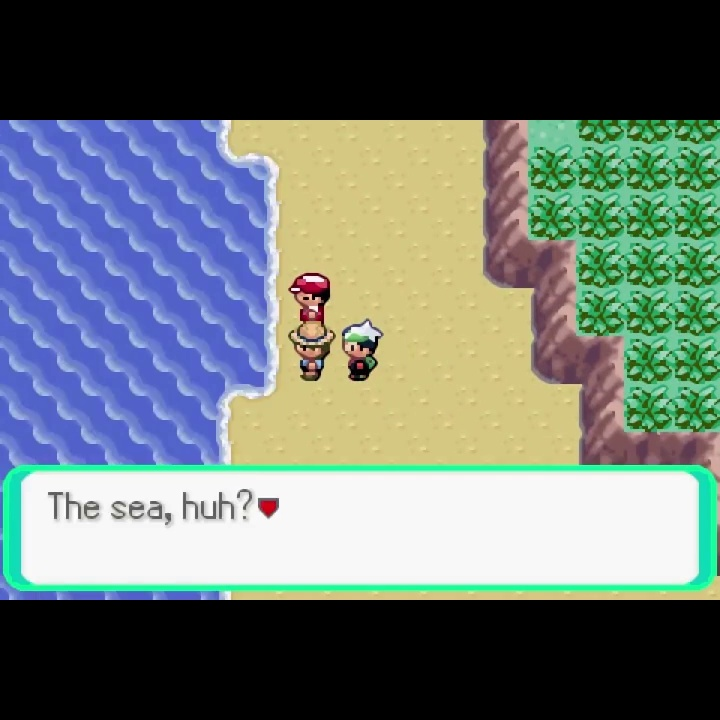grass: (625, 287, 674, 337), (577, 287, 627, 336), (575, 191, 624, 240), (624, 191, 673, 240), (672, 335, 720, 385), (623, 336, 672, 384), (576, 145, 625, 193), (672, 144, 720, 193), (577, 240, 625, 288), (625, 240, 673, 288), (625, 144, 673, 192), (672, 288, 720, 335), (529, 192, 576, 240), (673, 191, 720, 239), (673, 240, 720, 288), (624, 386, 673, 432), (674, 385, 720, 432), (529, 146, 576, 192), (624, 120, 673, 145), (673, 119, 720, 145), (576, 120, 624, 145)
npc: (287, 319, 337, 386), (341, 317, 385, 385), (286, 269, 333, 321)
